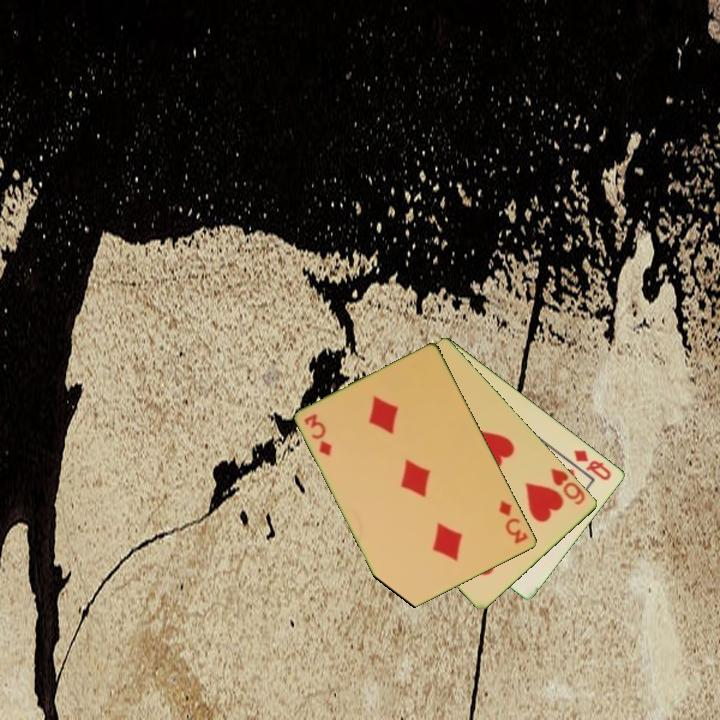3d: (496, 497, 531, 547), (301, 410, 335, 459)
6h: (547, 465, 588, 508)
Qd: (570, 446, 615, 483)
